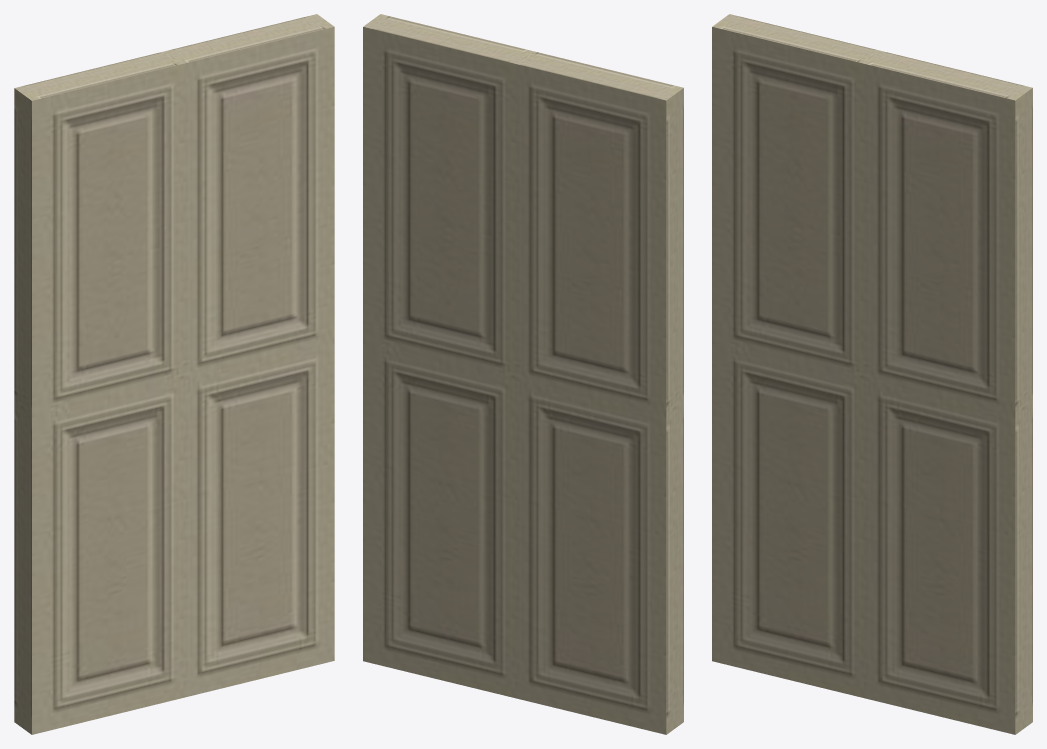
File: door1.gltf
3 renders of one model, left to right at view 1: azimuth 30°, elevation 25°; view 2: azimuth 150°, elevation 25°; view 3: azimuth 330°, elevation 25°, orthographic.
Visible parts, largest first — view 1: door; view 2: door; view 3: door.
Part boxes in pixels (box(x1,y1,x2,y2)): door: box(14, 14, 334, 734); door: box(363, 14, 683, 734); door: box(712, 14, 1032, 734).
Bounding box in the file's own units: 1 × 2 × 0.1015.
Materials: 1 (1 with a texture image).
